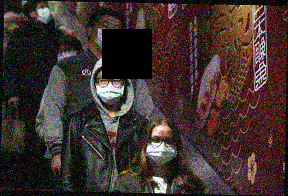with_mask: (89, 19, 123, 52), (146, 133, 178, 167), (94, 73, 126, 104), (55, 44, 79, 62), (33, 3, 51, 25)
